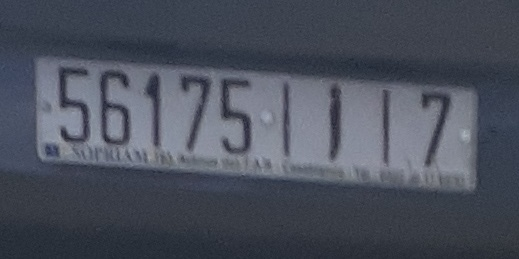1: (139, 69, 169, 149)
5: (48, 59, 98, 146), (214, 71, 260, 156)
6: (95, 66, 135, 150)
7: (414, 90, 454, 170), (174, 71, 212, 155)
a: (314, 80, 357, 165)
